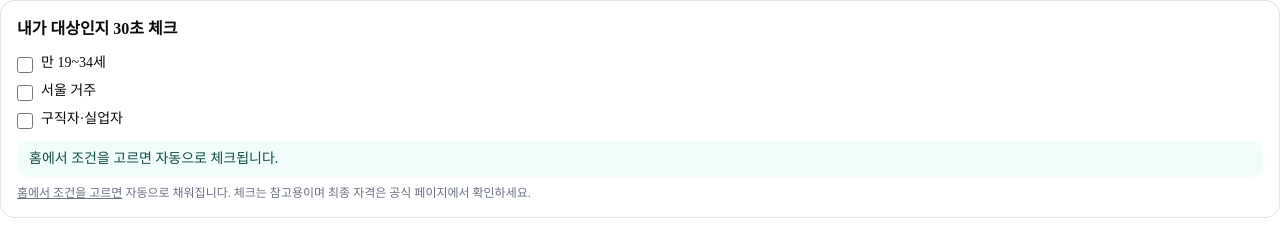
Test case: Checklist › 사용자가 직접 체크를 바꿀 수 있다
Click the checkbox labelled "만 19~34세" at coordinates (25, 65), box x1=17 y1=57 x2=33 y2=73
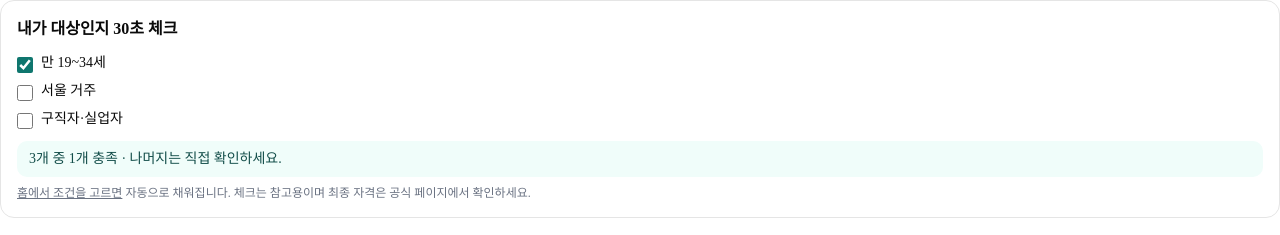
Expected: the checkbox labelled "만 19~34세" is checked, x1=17 y1=57 x2=33 y2=73
Expected: the text "3개 중 1개 충족 · 나머지는 직접 확인하세요." is shown, x1=17 y1=141 x2=1263 y2=177
